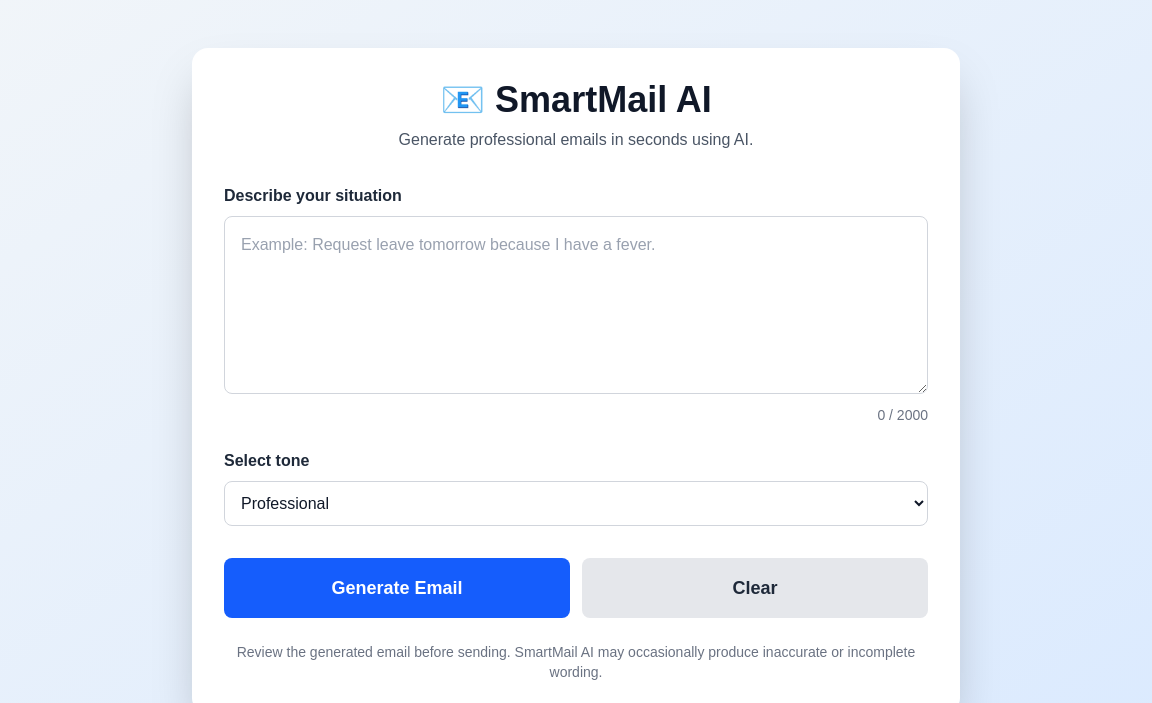
Test: SmartMail AI › clear resets the form
The width and height of the screenshot is (1152, 703).
In the text box labelled "Describe your situation": (576, 305) [224,216,928,394], type "Follow up on the proposal I sent last week."
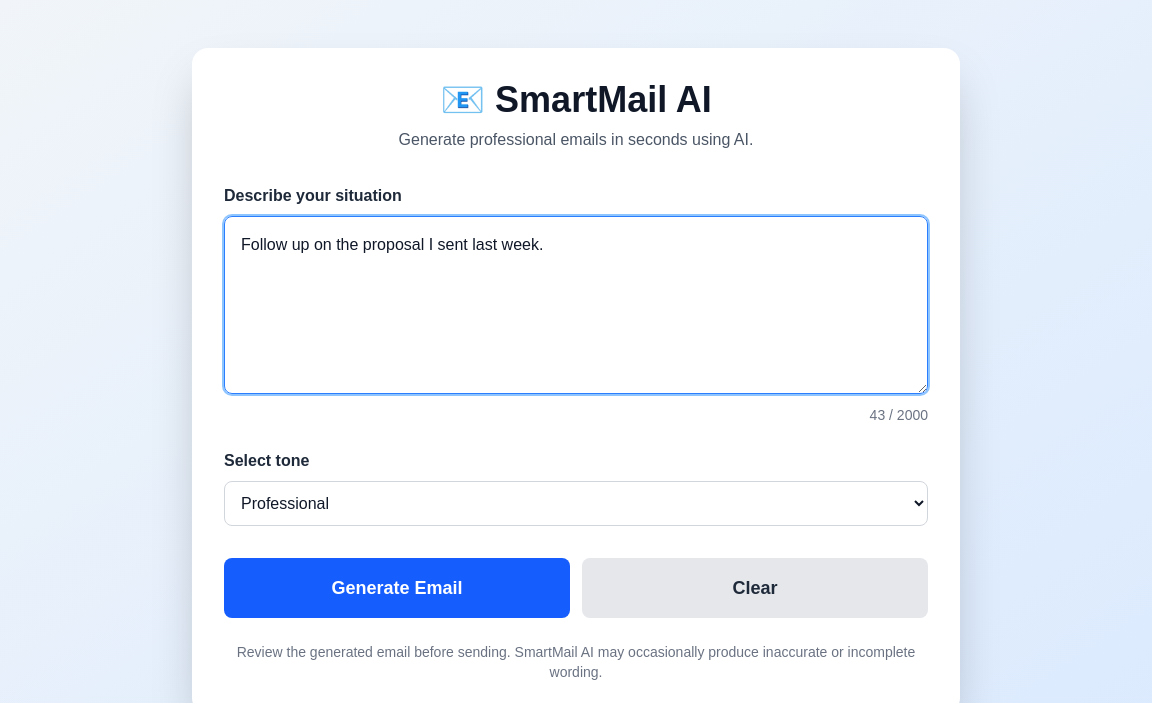
Select "Follow-up" in the dropdown labelled "Select tone": (576, 504) [224,481,928,526]
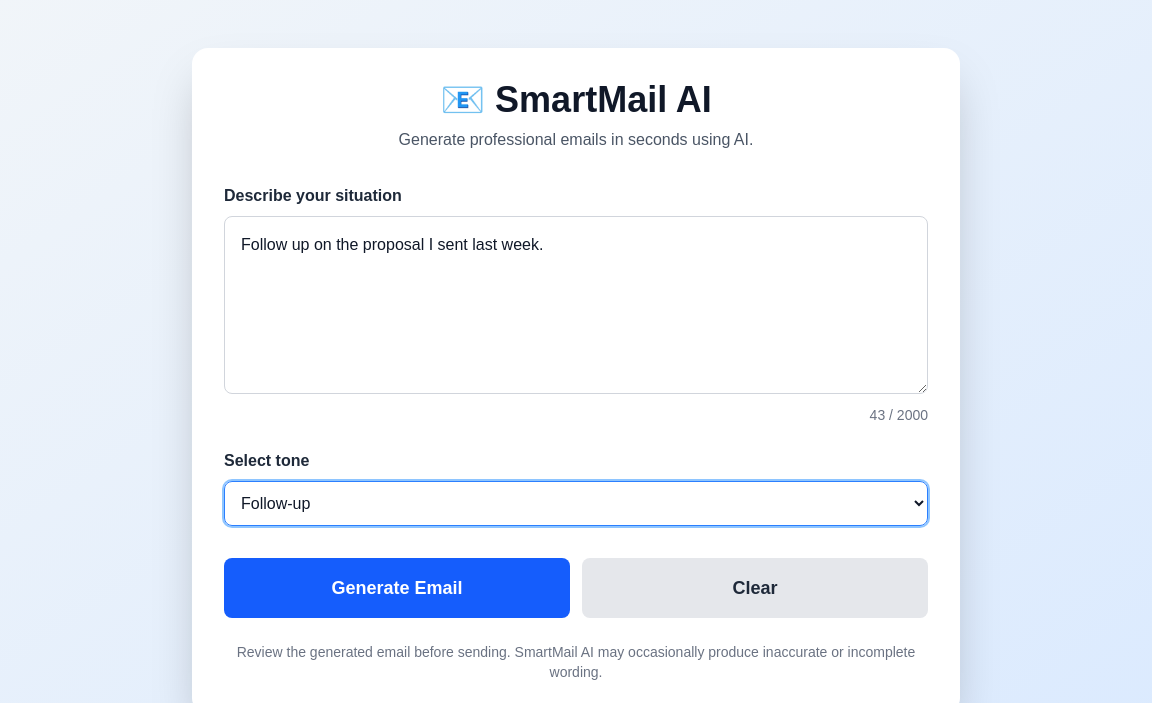
Click the button "Generate Email": (397, 588) [224,558,570,618]
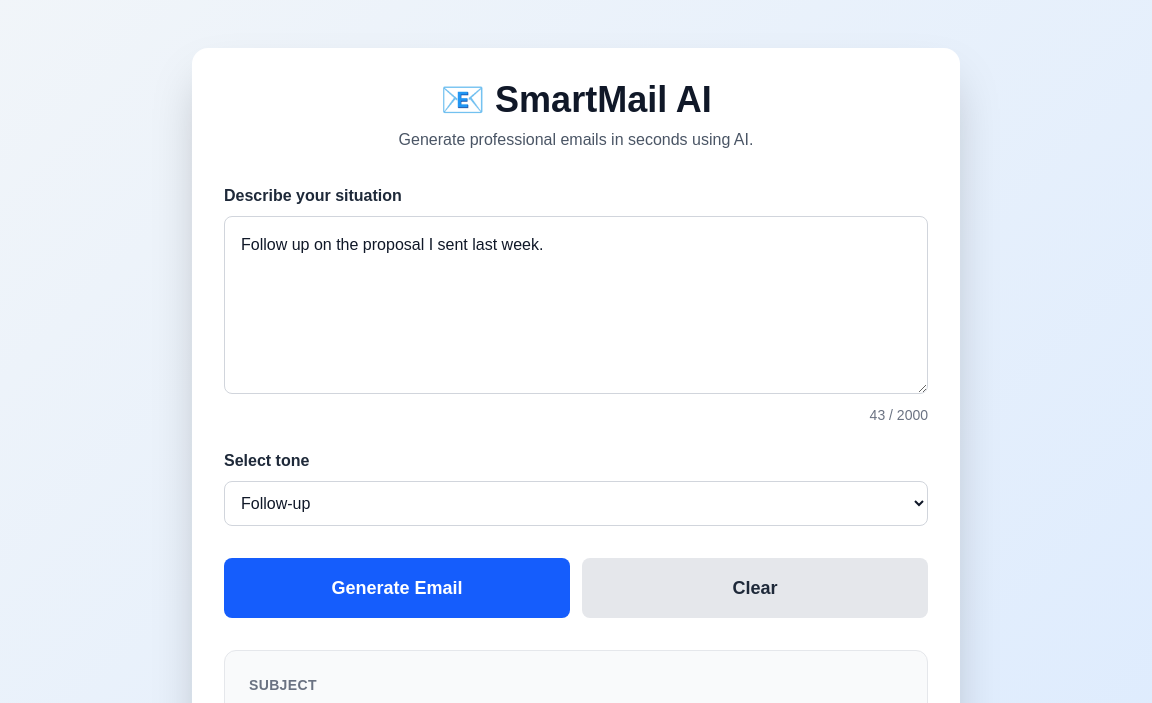
Click the button "Clear": (755, 588) [582,558,928,618]
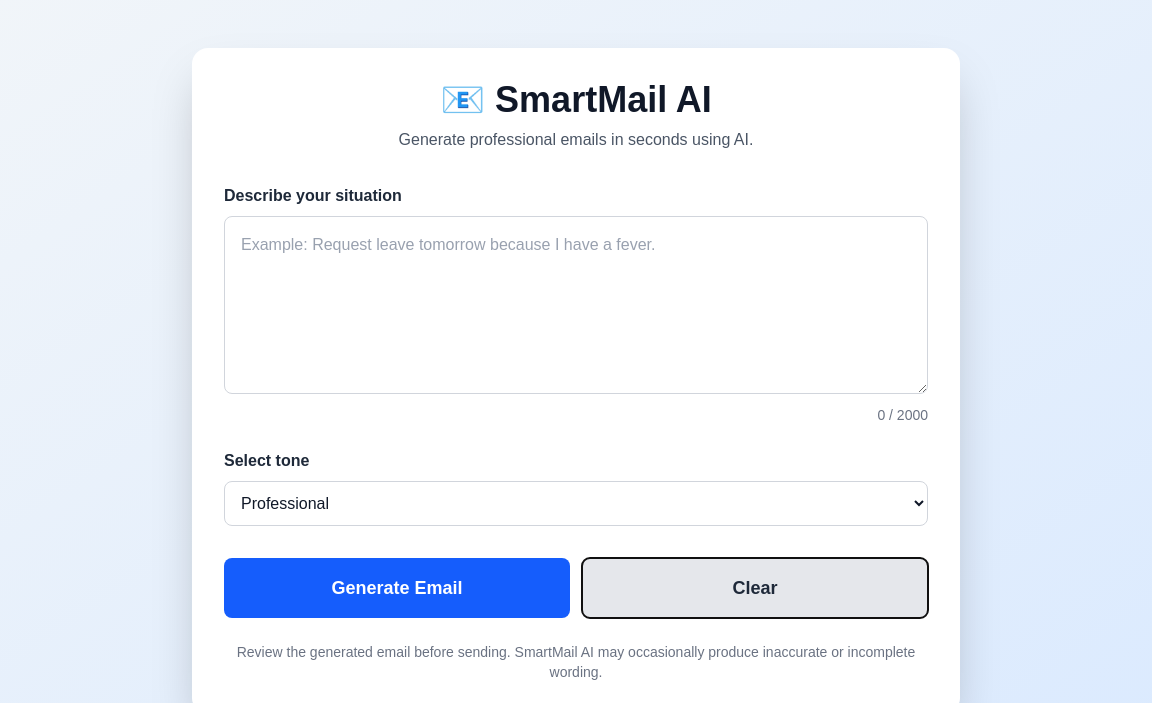
Now the text box labelled "Describe your situation" is empty, box [224,216,928,394]
